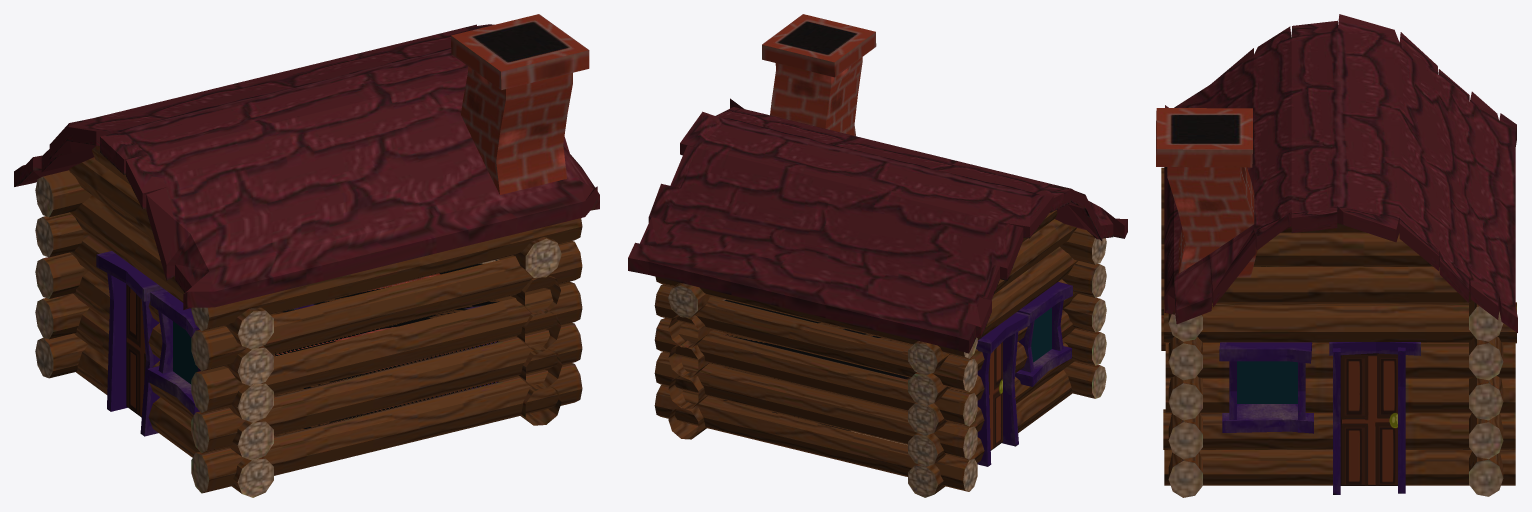
Rendered from Cabin.FBX.
3 renders of one model, left to right at view 1: azimuth 30°, elevation 25°; view 2: azimuth 150°, elevation 25°; view 3: azimuth 270°, elevation 25°, orthographic. The views are drawn at different scales.
Visible parts, largest first — view 1: Cabin; view 2: Cabin; view 3: Cabin.
Part boxes in pixels (box(x1,y1,x2,y2)): Cabin: box(14, 14, 599, 497); Cabin: box(628, 14, 1127, 497); Cabin: box(1156, 14, 1517, 497).
Bounding box in the file's own units: 343 × 286 × 264.
